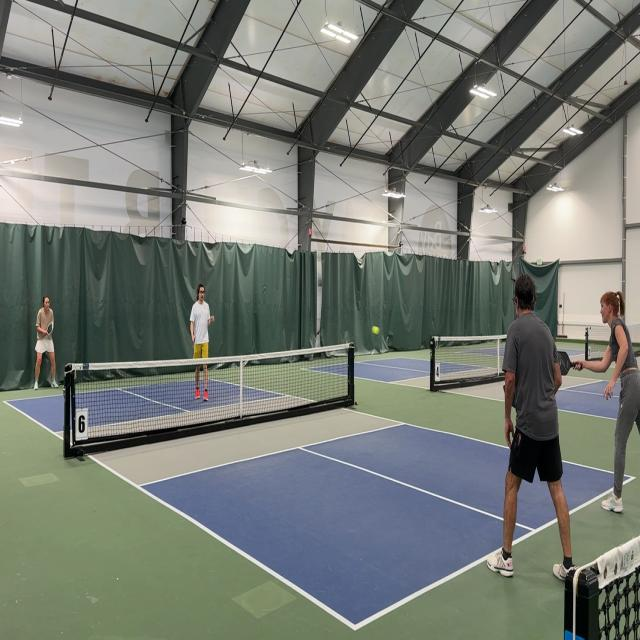ball: (371, 323, 381, 337)
